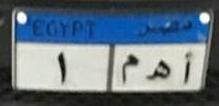1: (54, 50, 70, 86)
alif: (179, 51, 194, 87)
haa: (145, 57, 171, 84)
meem: (120, 51, 139, 86)
